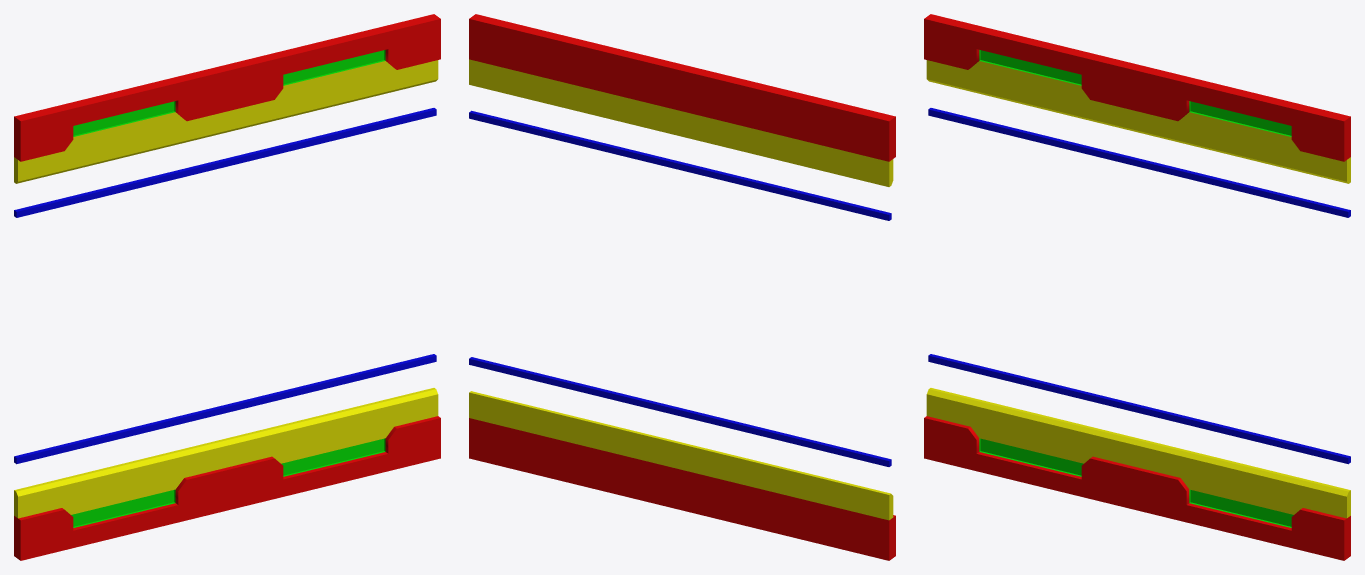
The model's file is WallOuter_low.fbx.
3 renders of one model, left to right at view 1: azimuth 30°, elevation 25°; view 2: azimuth 150°, elevation 25°; view 3: azimuth 330°, elevation 25°, orthographic.
Parts seen in each view (by area): view 1: Outer_low; view 2: Outer_low; view 3: Outer_low.
Boxes of the visible parts, <box> form: Outer_low: <box>14,14,440,560</box>; Outer_low: <box>469,14,895,560</box>; Outer_low: <box>924,14,1350,560</box>.
Bounding box in the file's own units: 200 × 200 × 5.46.
